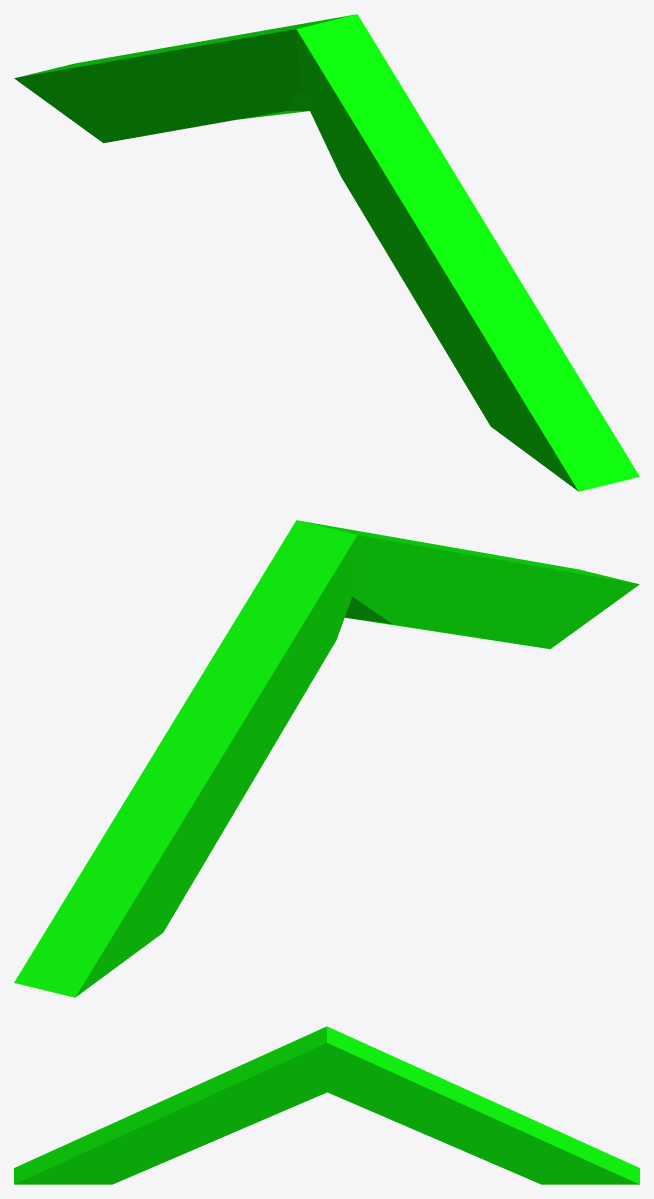
File: SM_Roof_Moderate_Truss_Wood_Center.fbx
The picture shows the model from 3 angles, top to bottom: view 1: azimuth 30°, elevation 25°; view 2: azimuth 150°, elevation 25°; view 3: azimuth 270°, elevation 25°; orthographic projection. The views are drawn at different scales.
Visible parts, largest first — view 1: roof-moderate-truss-wood-center; view 2: roof-moderate-truss-wood-center; view 3: roof-moderate-truss-wood-center.
Part boxes in pixels (x1,y1,x2,y2): roof-moderate-truss-wood-center: (14,14,639,491); roof-moderate-truss-wood-center: (14,520,639,997); roof-moderate-truss-wood-center: (14,1026,639,1184).
Bounding box in the file's own units: 0.25 × 1 × 4.
